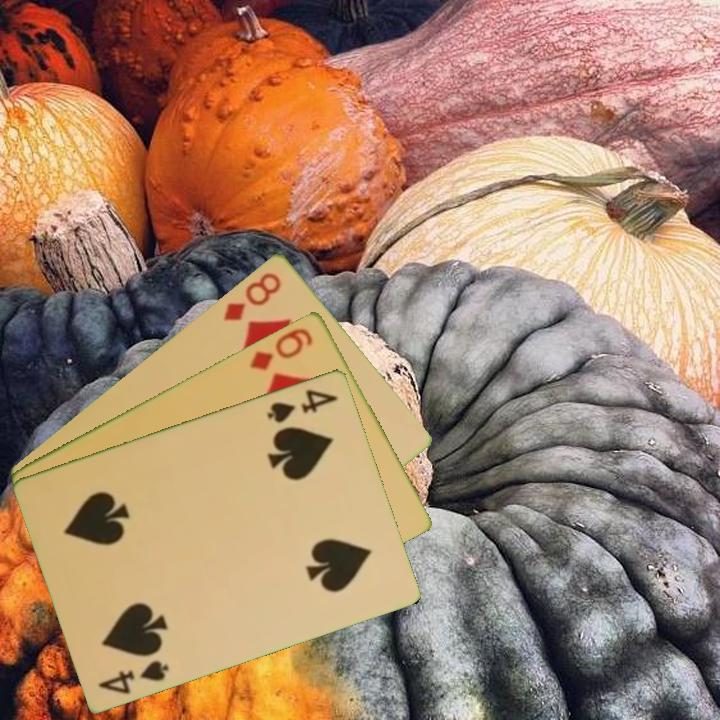4s: (263, 385, 341, 426), (95, 656, 173, 697)
6d: (245, 323, 316, 373)
8d: (219, 268, 284, 324)
